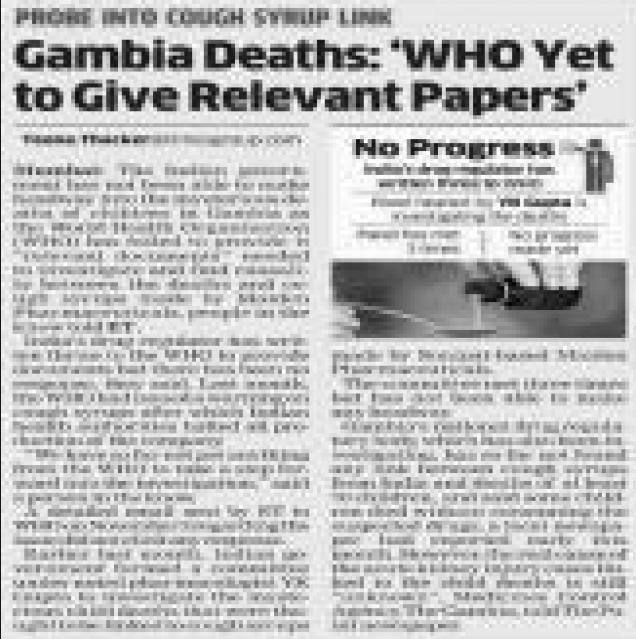paper: (1, 0, 635, 638)
